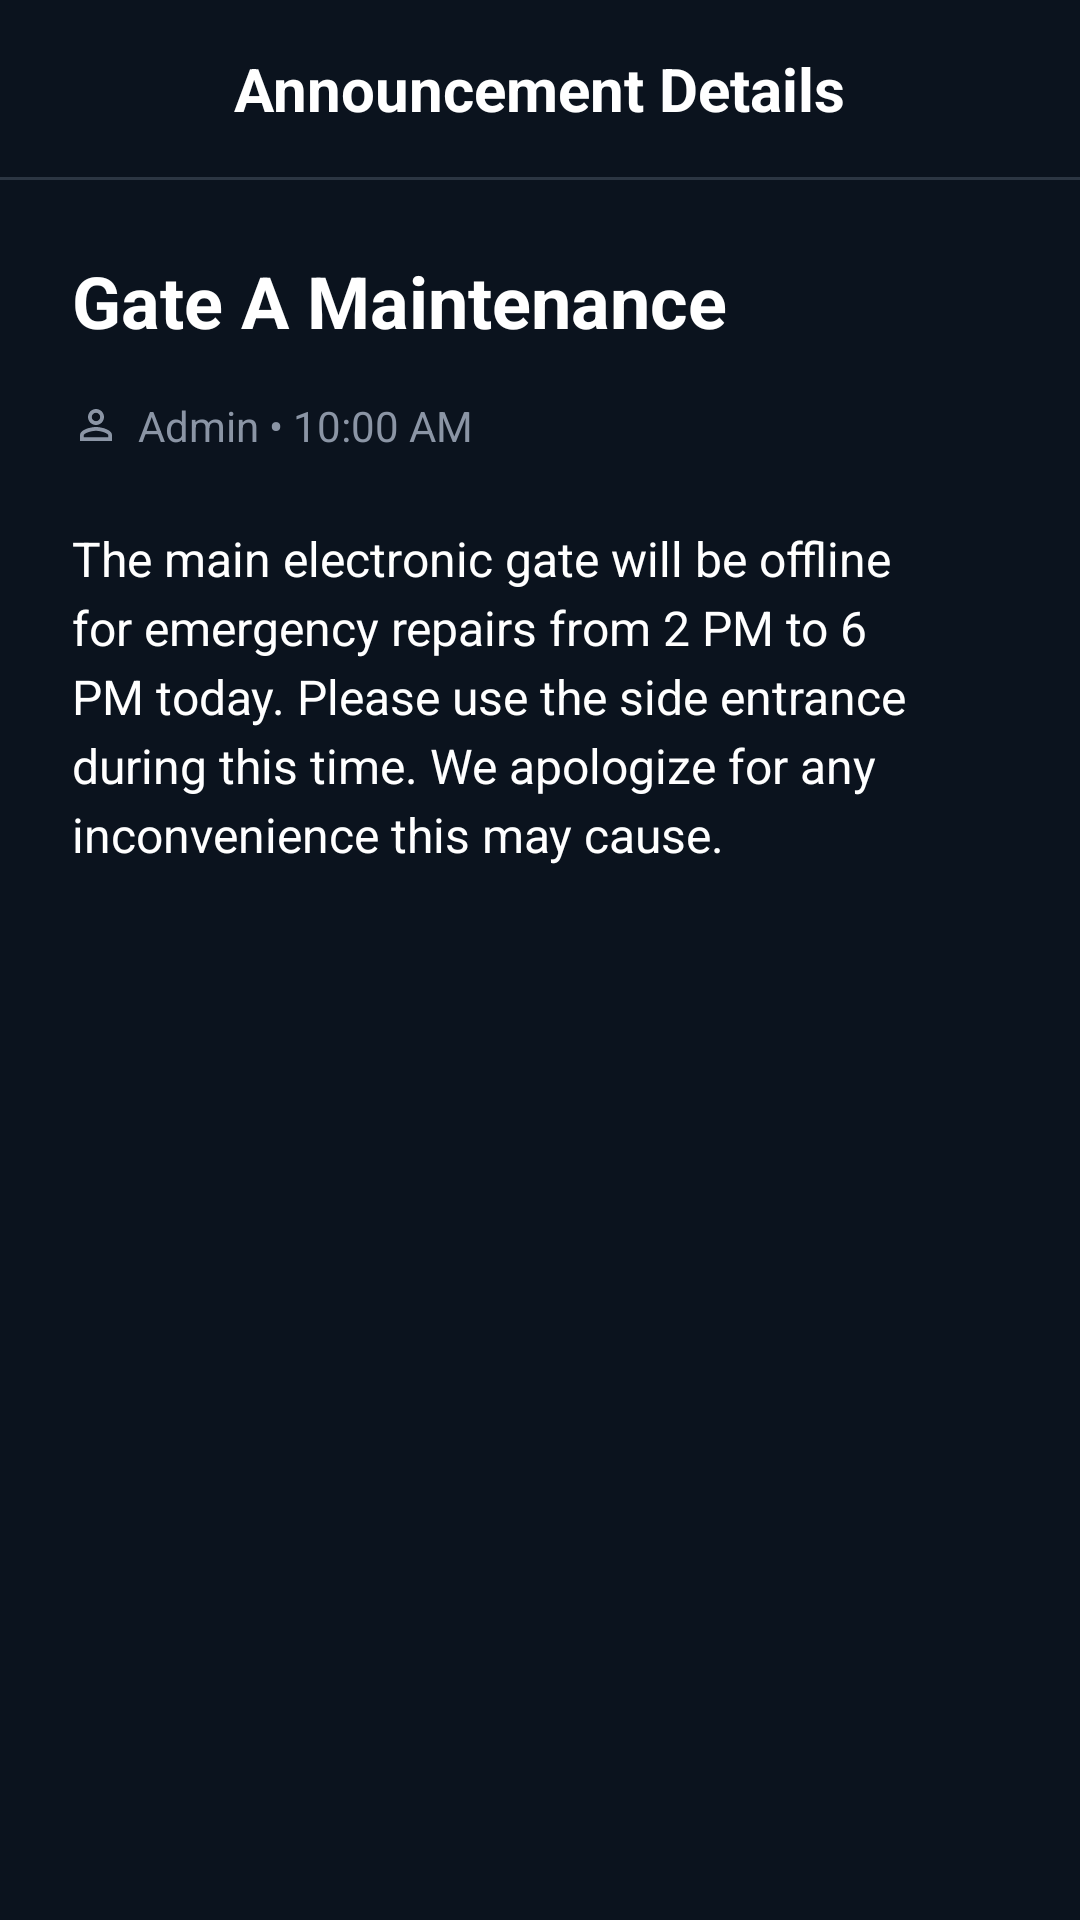

Icons on this 1080px x 1920px Android screen, each with its box as (x1, y1, x2, y2):
person: (80, 409, 112, 441)
